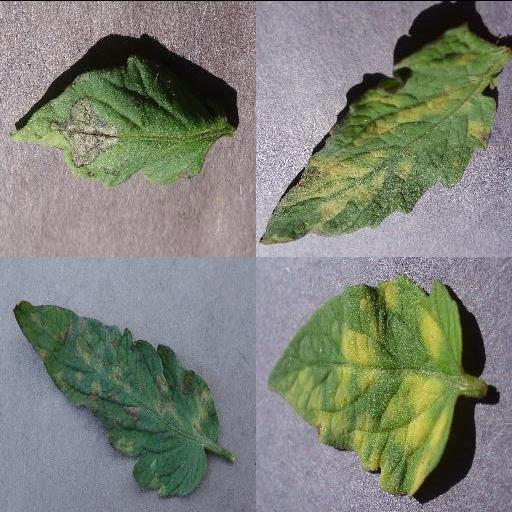Early Blight: (8, 52, 234, 183)
Leaf Mold: (258, 24, 512, 243), (264, 274, 464, 496), (13, 300, 221, 496)
